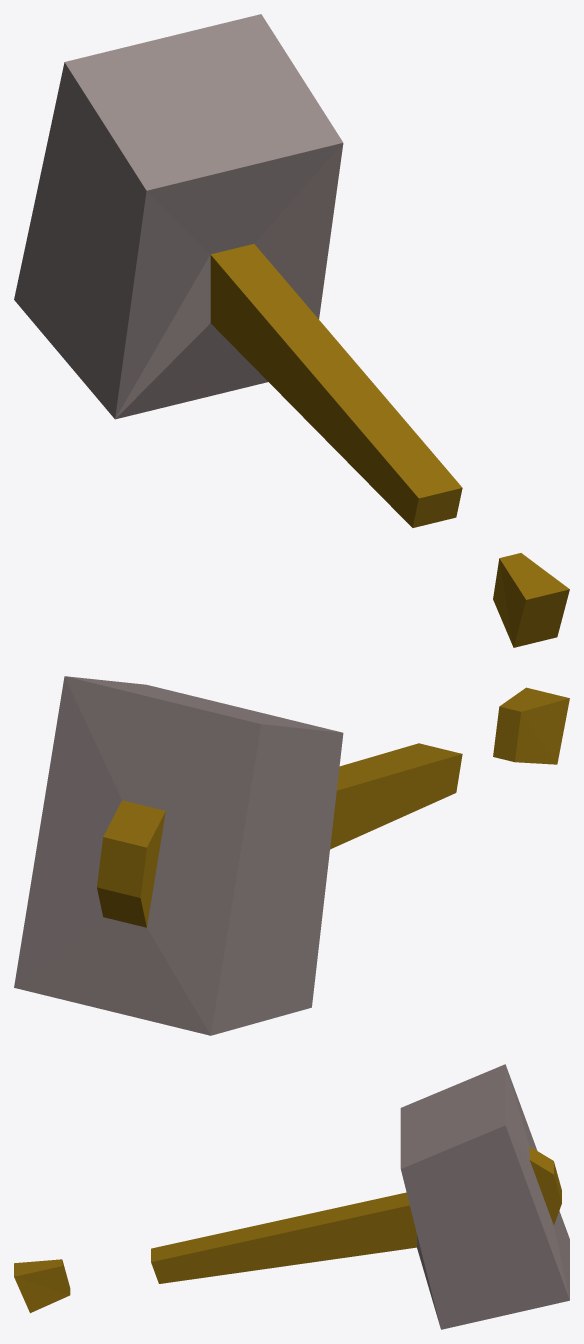
The model's file is npc_world_mountain_dwarf_5.obj.
3 renders of one model, top to bottom at view 1: azimuth 30°, elevation 25°; view 2: azimuth 150°, elevation 25°; view 3: azimuth 270°, elevation 25°, orthographic. The views are drawn at different scales.
Bounding box in the file's own units: 0.1406 × 0.2266 × 0.5391.
